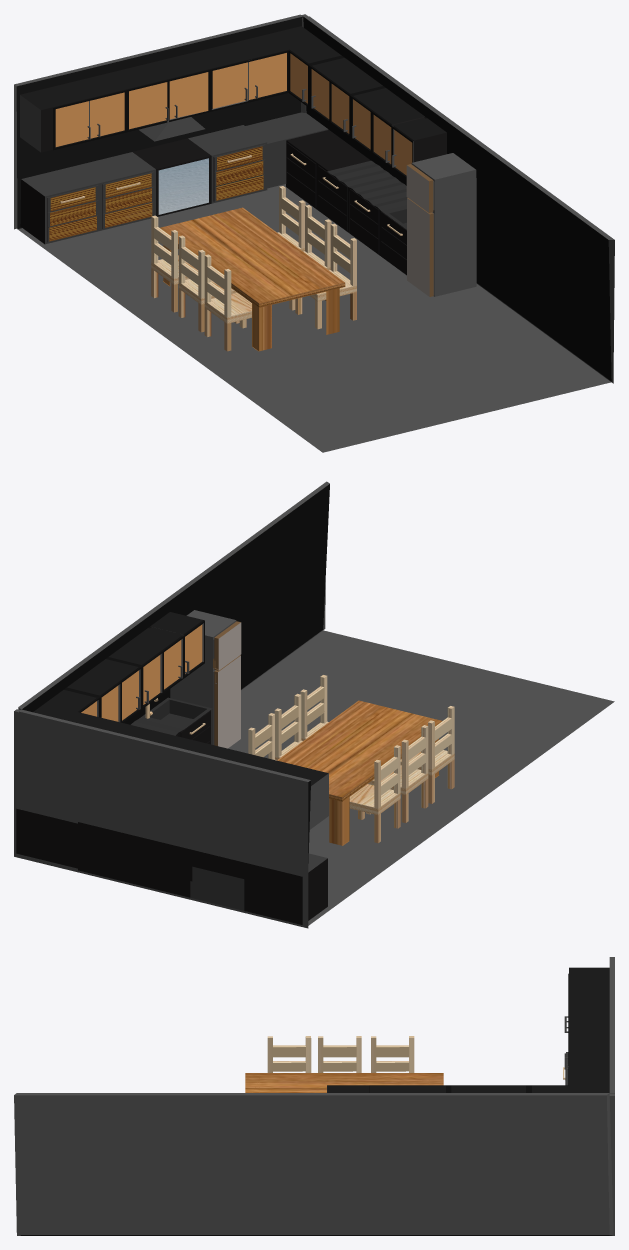
The model's file is Kitchen.glb.
3 renders of one model, top to bottom at view 1: azimuth 30°, elevation 25°; view 2: azimuth 150°, elevation 25°; view 3: azimuth 270°, elevation 25°, orthographic. The views are drawn at different scales.
Parts seen in each view (by area): view 1: Plane.018_Material.036_0; view 2: Plane.018_Material.036_0; view 3: Plane.018_Material.036_0.
Part boxes in pixels (<box>): Plane.018_Material.036_0: <box>14,14,614,452</box>; Plane.018_Material.036_0: <box>14,481,614,928</box>; Plane.018_Material.036_0: <box>14,957,614,1235</box>.
Bounding box in the file's own units: 16.42 × 7.83 × 30.21.
22 materials, 10 textured.
